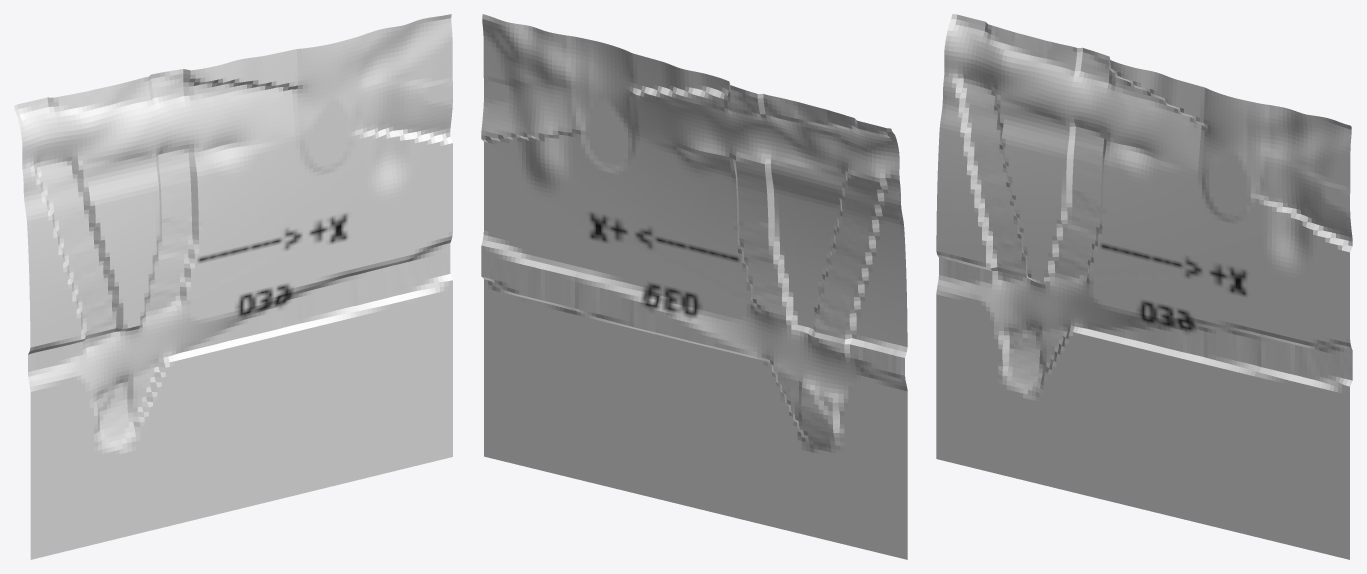
The picture shows the model from 3 angles, left to right: view 1: azimuth 30°, elevation 25°; view 2: azimuth 150°, elevation 25°; view 3: azimuth 330°, elevation 25°; orthographic projection. The views are drawn at different scales.
Visible parts, largest first — view 1: Ground039; view 2: Ground039; view 3: Ground039.
Boxes of the visible parts, box(x1,y1,x2,y2) form: Ground039: box(14, 14, 452, 559); Ground039: box(481, 14, 907, 559); Ground039: box(936, 14, 1352, 559).
Size of what is drawn, in the model's own units: 100 by 7.06 by 100.
Materials: 1 (1 with a texture image).
